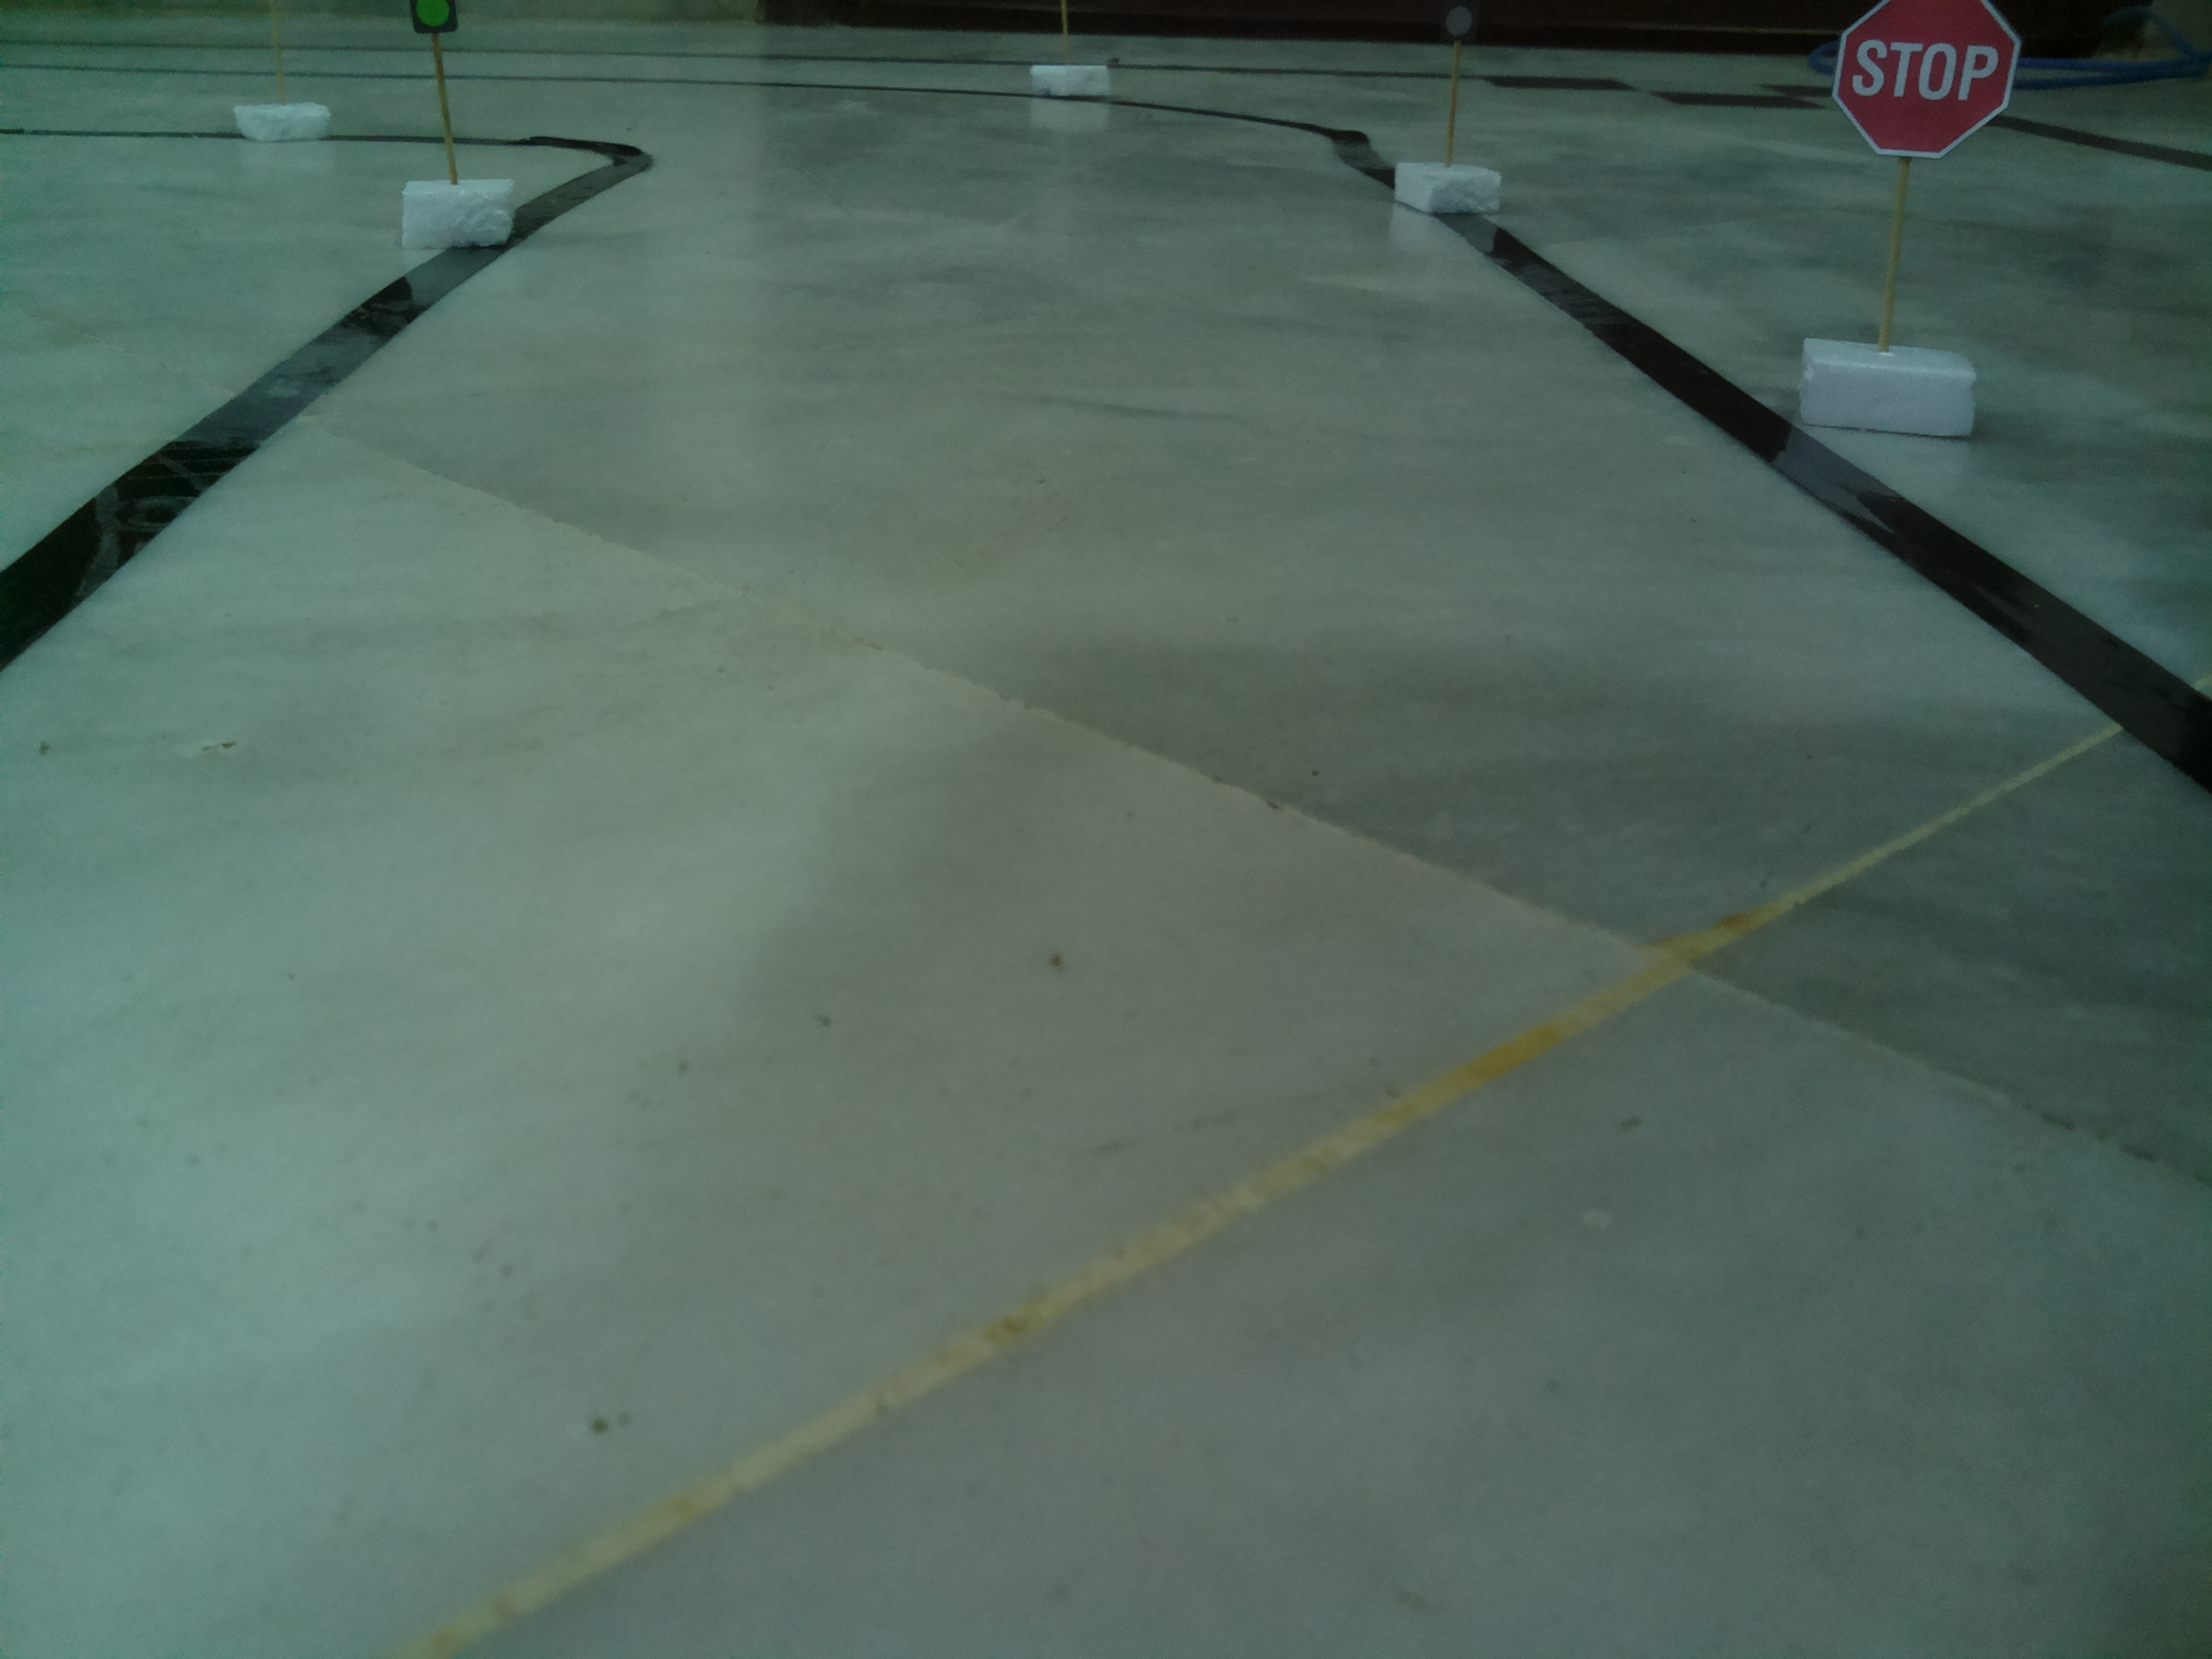Green traffic light: (401, 2, 467, 38)
Stop sign: (1832, 0, 2029, 164)
